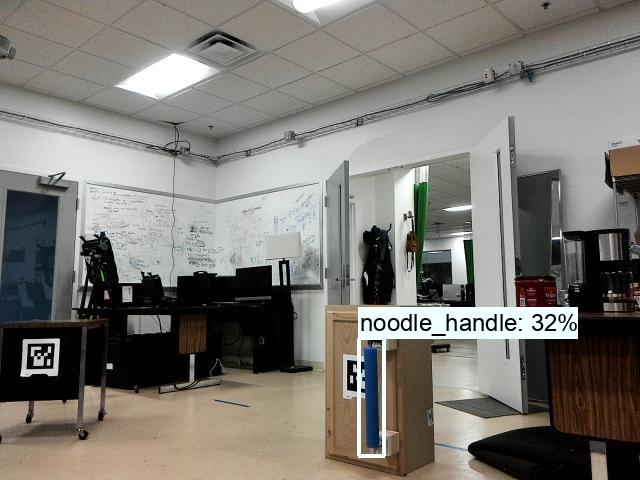noodle_handle: (359, 343, 384, 455)
